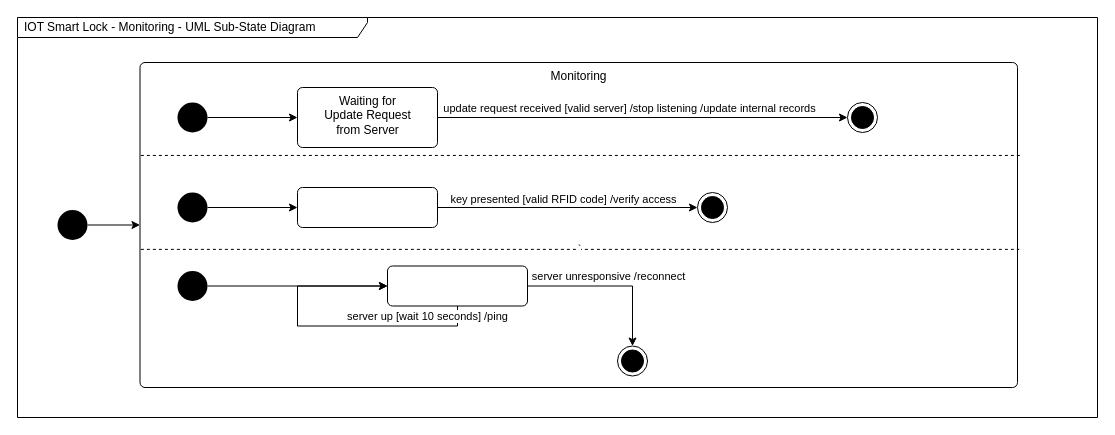
Image size: 1115x435. Some labels were removed from this diagram. The shapes that lost their labels are listed below. From the top down, each one's centre as x and y in pixels, then its label:
(x=367, y=207): Listening
(x=457, y=285): Pinging server
